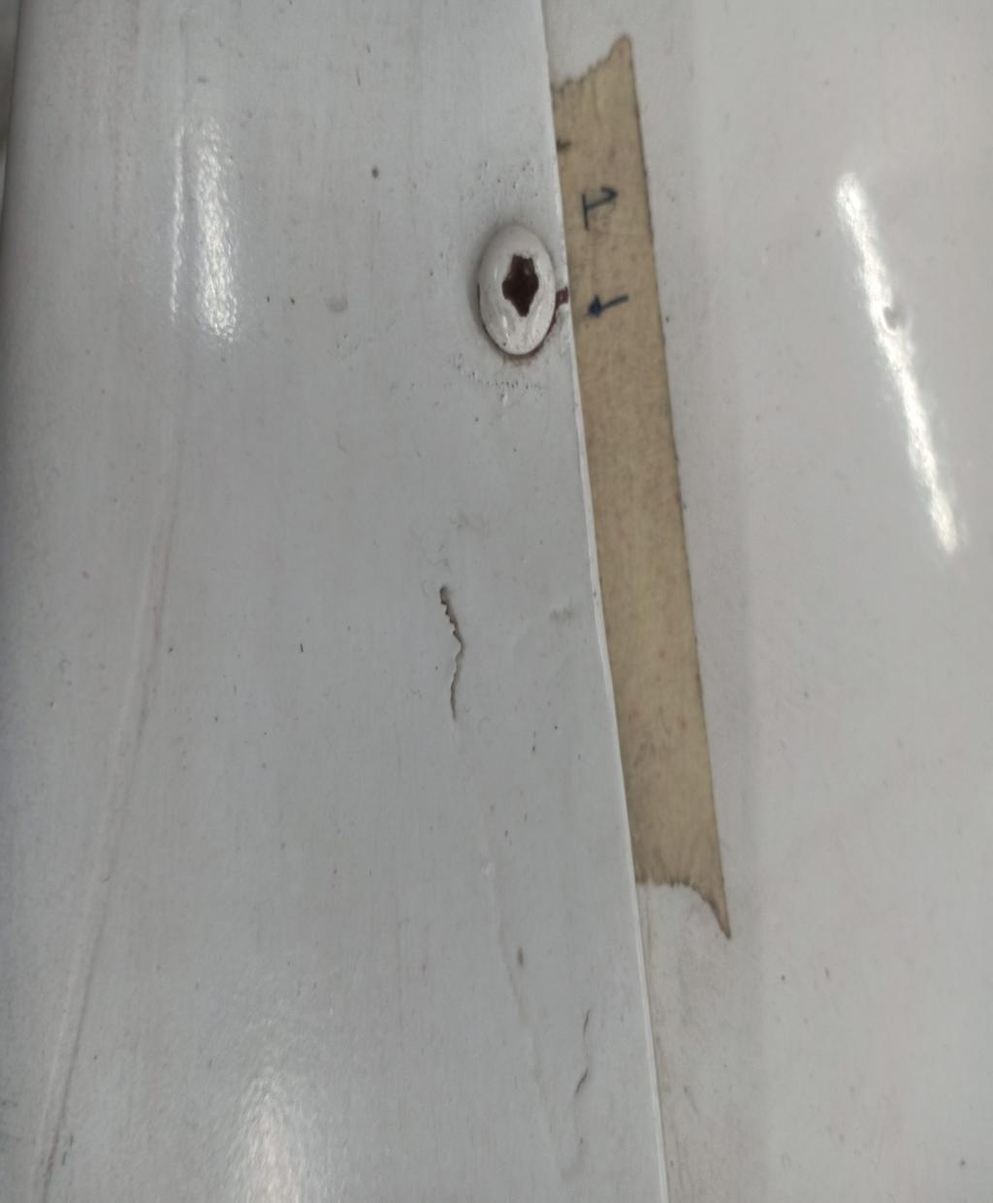corrosion: (435, 578, 470, 727)
